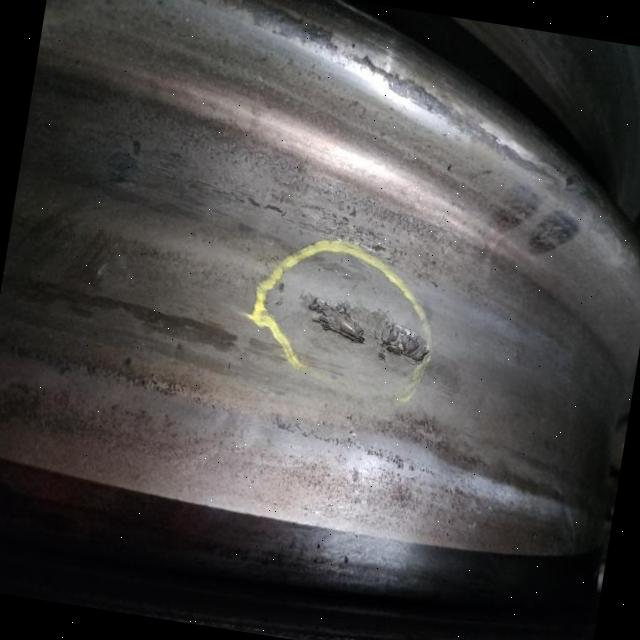Peeling: (301, 297, 436, 372)
